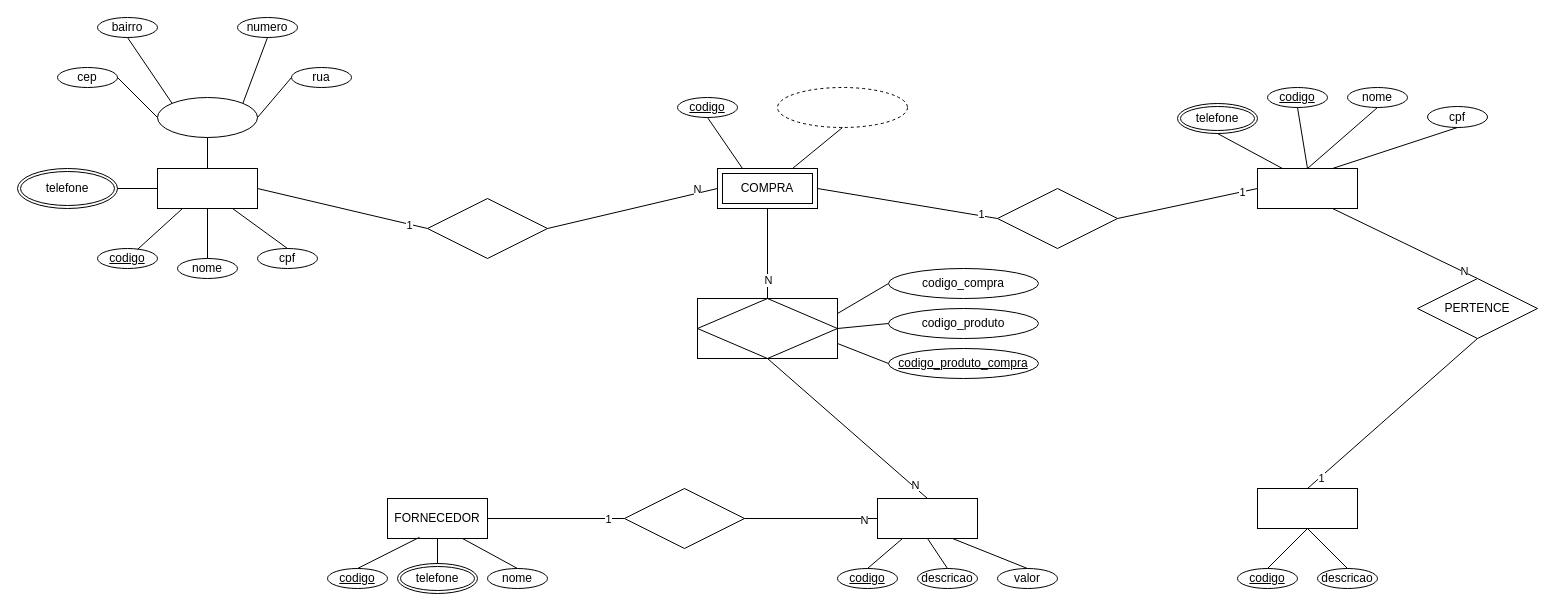
This 1555x611 diagram has some shape labels left out. Here are the shapes that lost their labels. From the top down, the centre of each, then its label:
At point (207, 117): "endereco".
At point (842, 107): "quantidade_produtos".
At point (207, 188): "CLIENTE".
At point (1307, 188): "FUNCIONARIO".
At point (487, 228): "REALIZA".
At point (1057, 218): "REGISTRA".
At point (767, 328): "CONTEM produto compra".
At point (684, 518): "FORNECE".
At point (927, 518): "PRODUTO".
At point (1307, 508): "DEPARTAMENTO".
